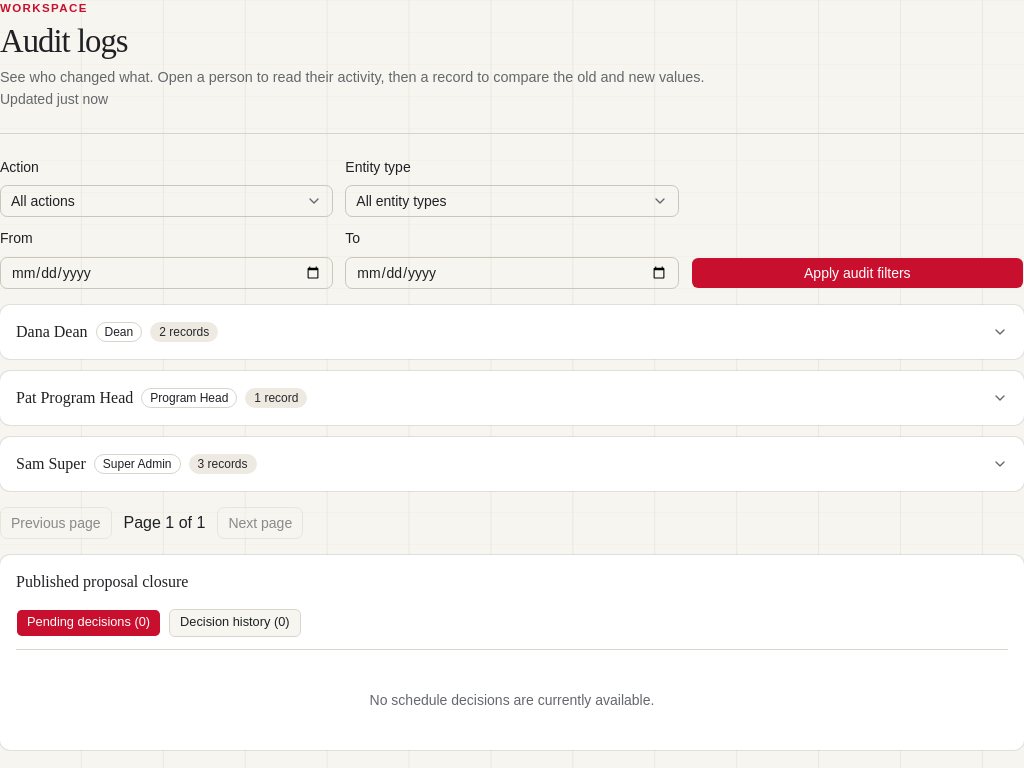
Test case: AuditLogsWorkspace › shows which role and college a Super Admin was acting as on their records
Click the button "Sam Super Super Admin 3 records": (51, 463) [16,453,1008,475]
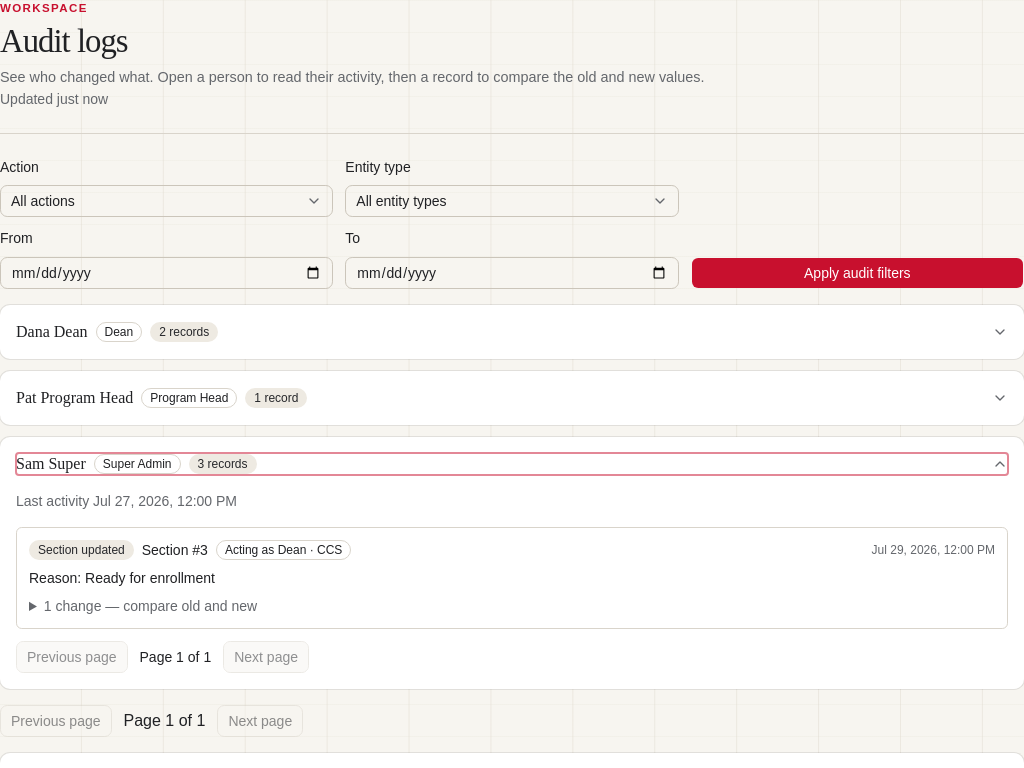
Now the text "Section updated" is shown, box [29,540,134,560]
Now the text "Acting as Dean · CCS" is shown, box [216,540,351,560]
